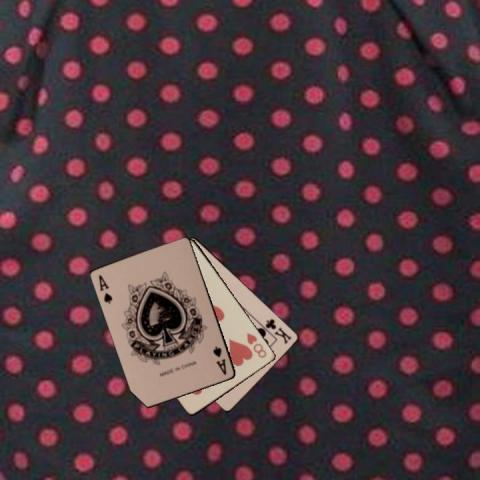8h: (244, 330, 269, 359)
As: (210, 343, 228, 377), (96, 272, 114, 305)
Kc: (263, 316, 293, 345)
